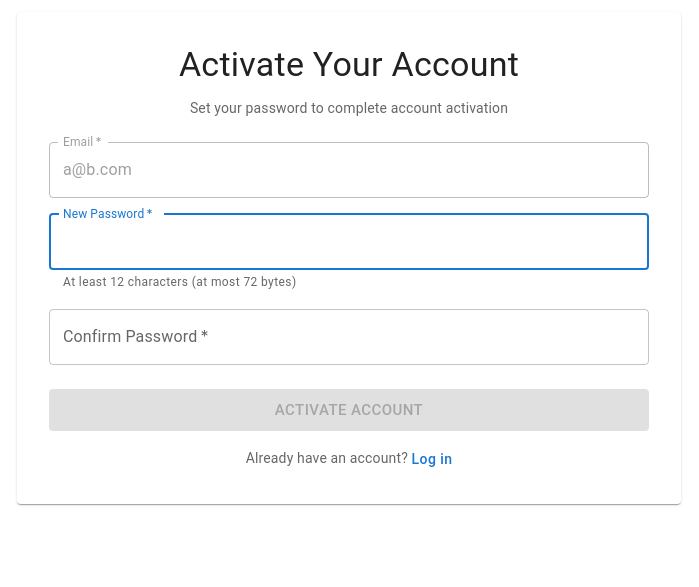
Test case: ActivateAccount — error handling › surfaces backend detail message
In the password field labelled "New Password *": (349, 242) left=49, top=214, right=649, bottom=270, type "password1234"
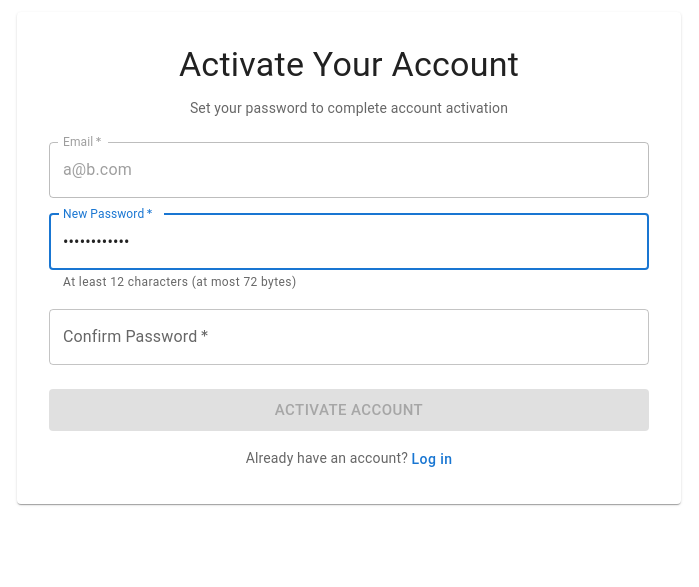
In the password field labelled "Confirm Password *": (349, 337) left=49, top=309, right=649, bottom=365, type "password1234"
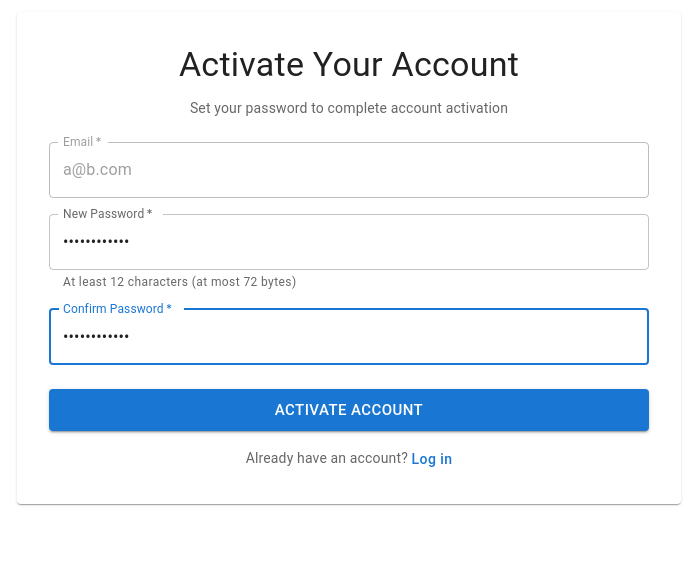
Click the button "Activate Account": (349, 410) left=49, top=389, right=649, bottom=431
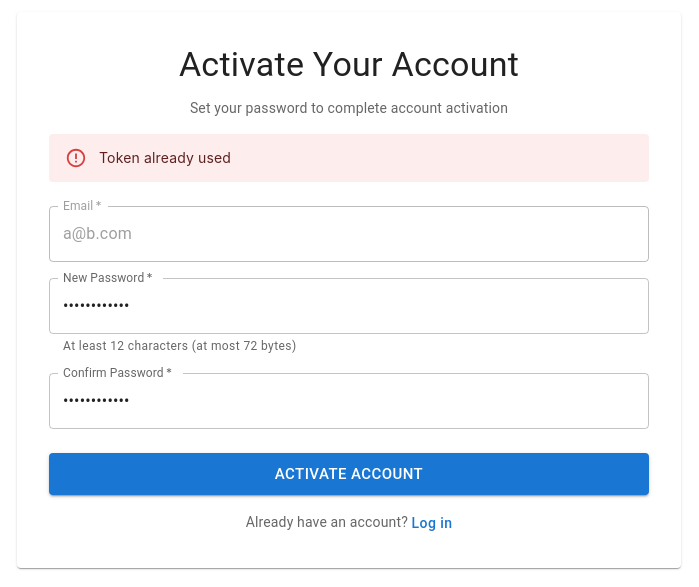
Result: the text "Token already used" is shown at left=99, top=149, right=231, bottom=166
